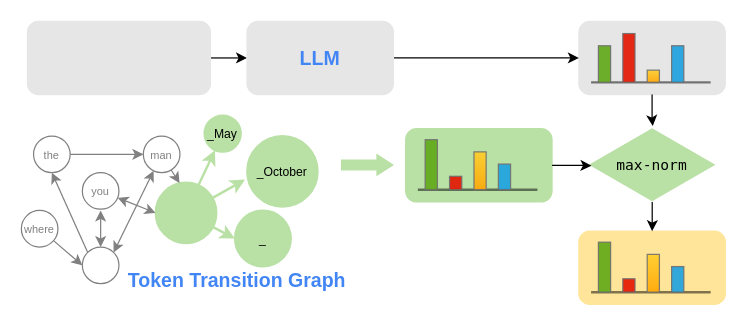
This 747x326 diagram has some shape labels left out. Each missing label, with the centre of its shape:
are: point 100,265
from: point 185,212
l graph: point 478,164
Q: When was the last La Nina?: point 118,57
